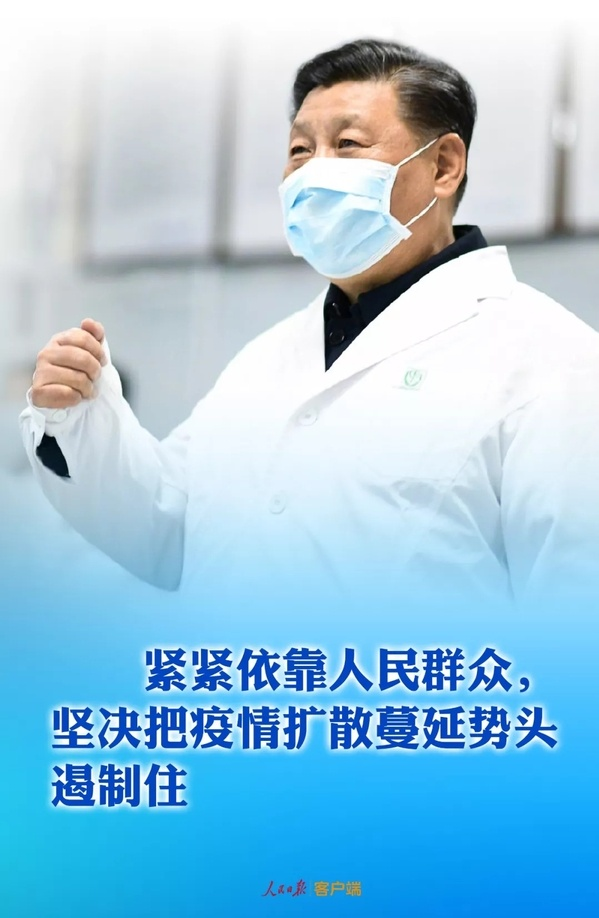correctlyWear: (280, 109, 467, 280)
